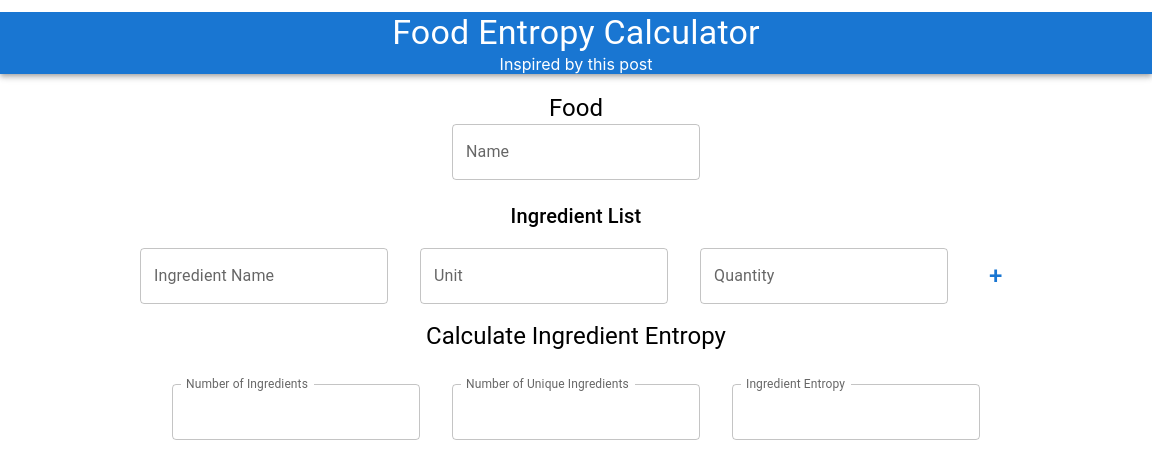
salad theory › calculate ingredient entropy › should calculate the ingredient entropy
This screenshot has width=1152, height=457.
Type "5" into the element showing "Number of Ingredients" at (296, 412), box 172,384 -> 420,440
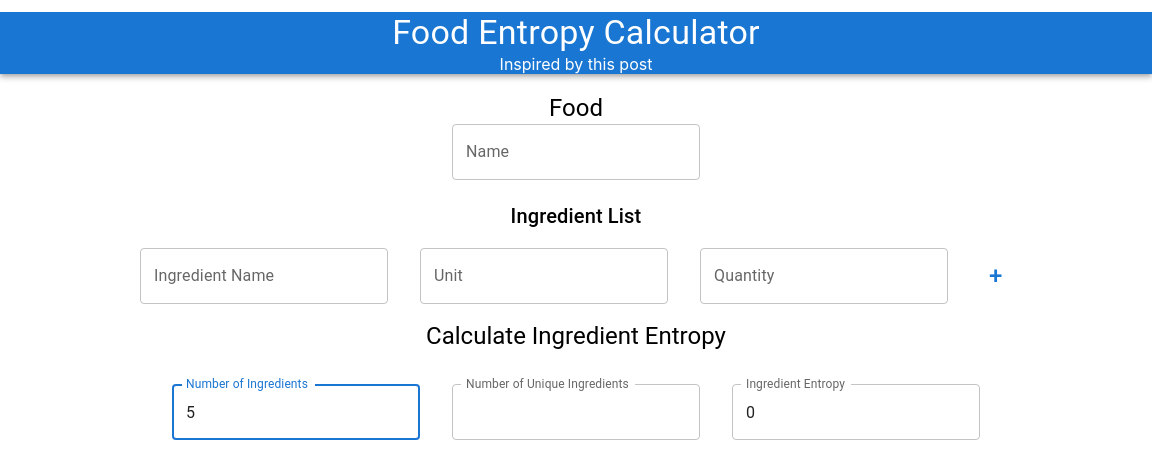
Type "2" into the element showing "Number of Unique Ingredients" at (576, 412), box 452,384 -> 700,440
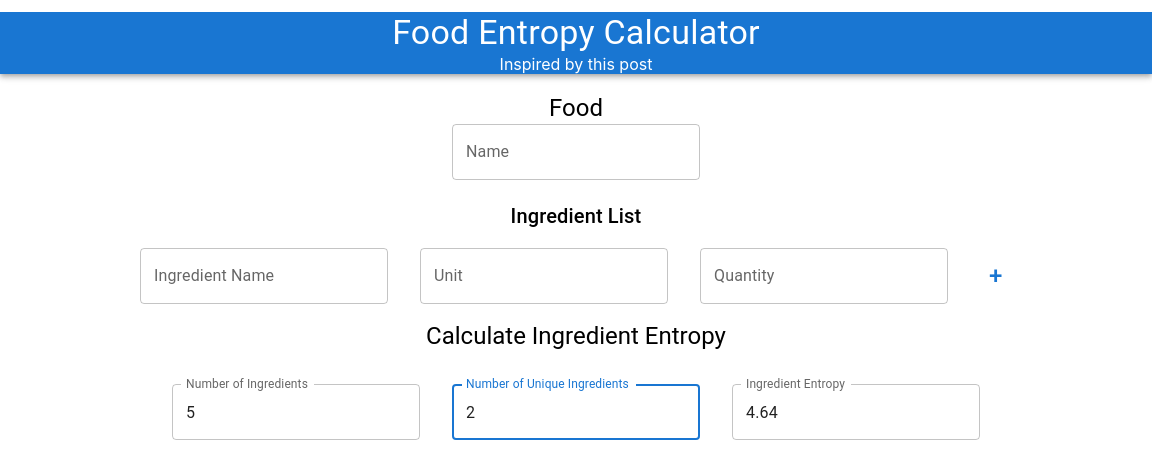
Check: the field labelled "Ingredient Entropy" holds "4.64", box 732,384 -> 980,440
